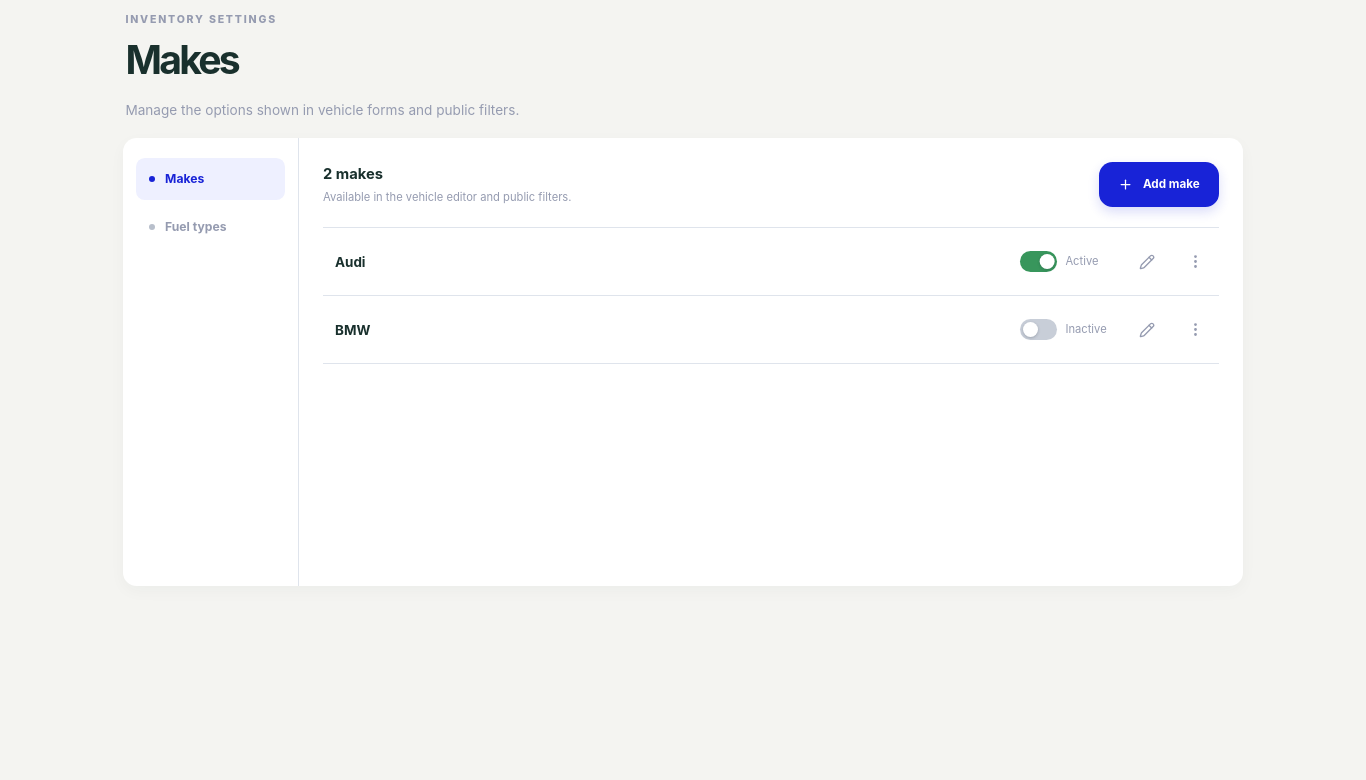
Scenario: AdminInventoryPanel option management › supports saving and cancelling inline name edits
The width and height of the screenshot is (1366, 780).
Expected: the text "Audi" is shown, top-left (335, 254), bottom-right (366, 270)
Click the button named "Edit Audi".
click(1147, 262)  # box top-left (1129, 244), bottom-right (1165, 280)
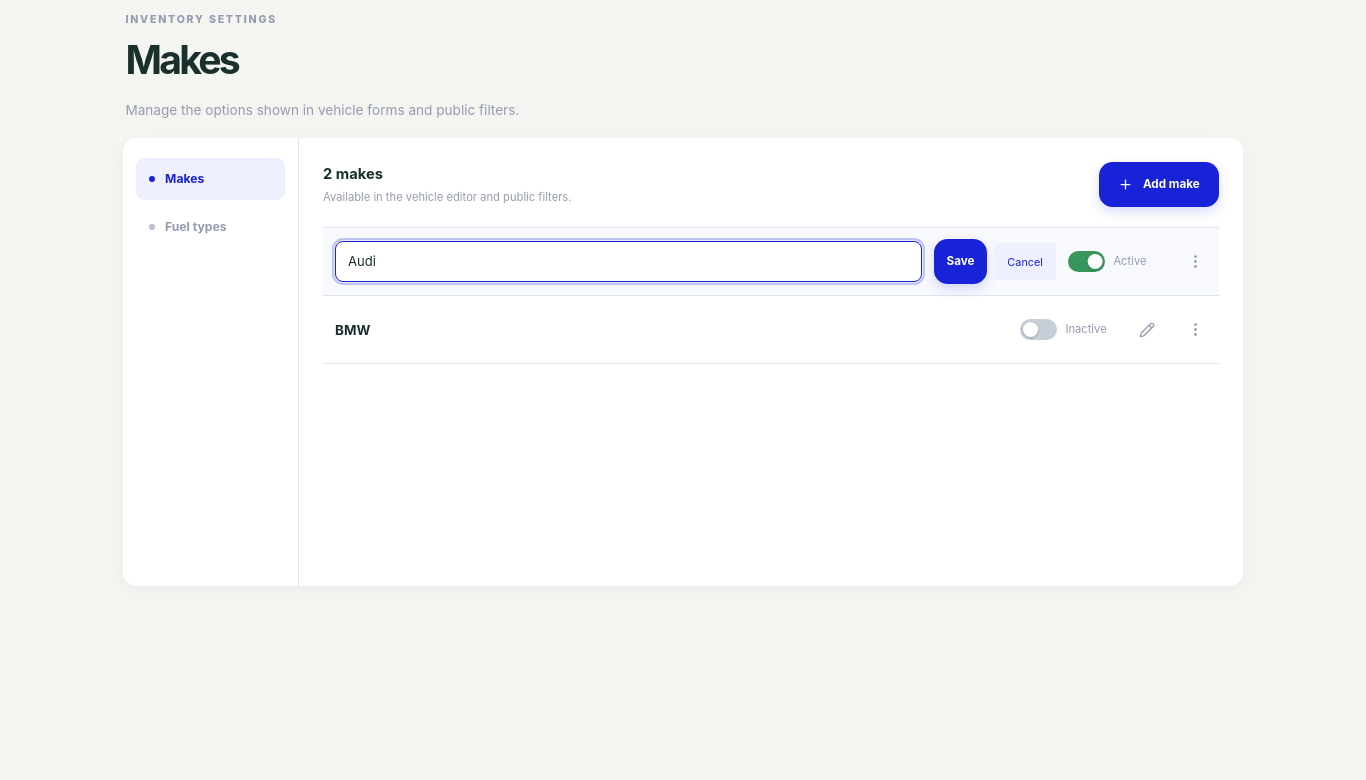
Replace the text in the field named "Edit Audi" with "Audi AG" at point(628, 262), box top-left (335, 241), bottom-right (922, 282)
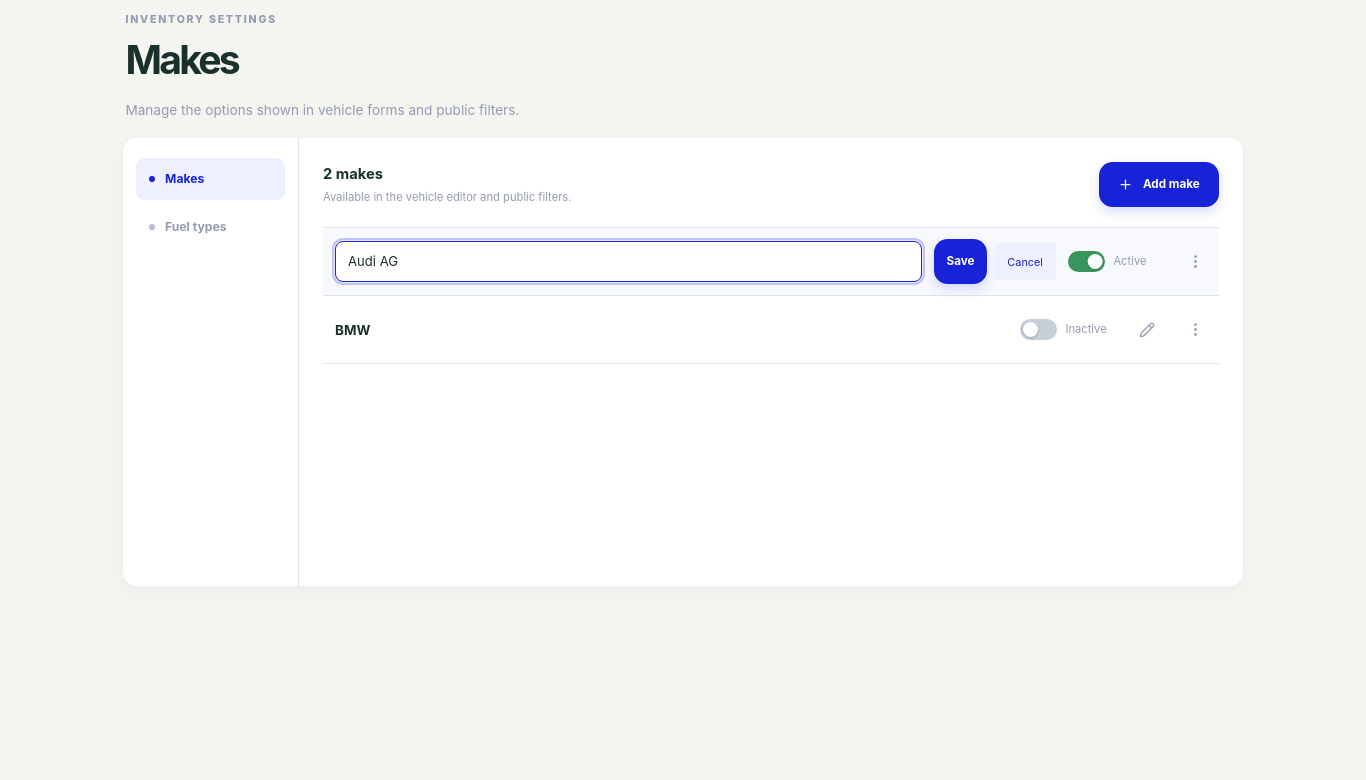
Click the button "Save".
click(961, 262)  # box top-left (934, 239), bottom-right (987, 284)
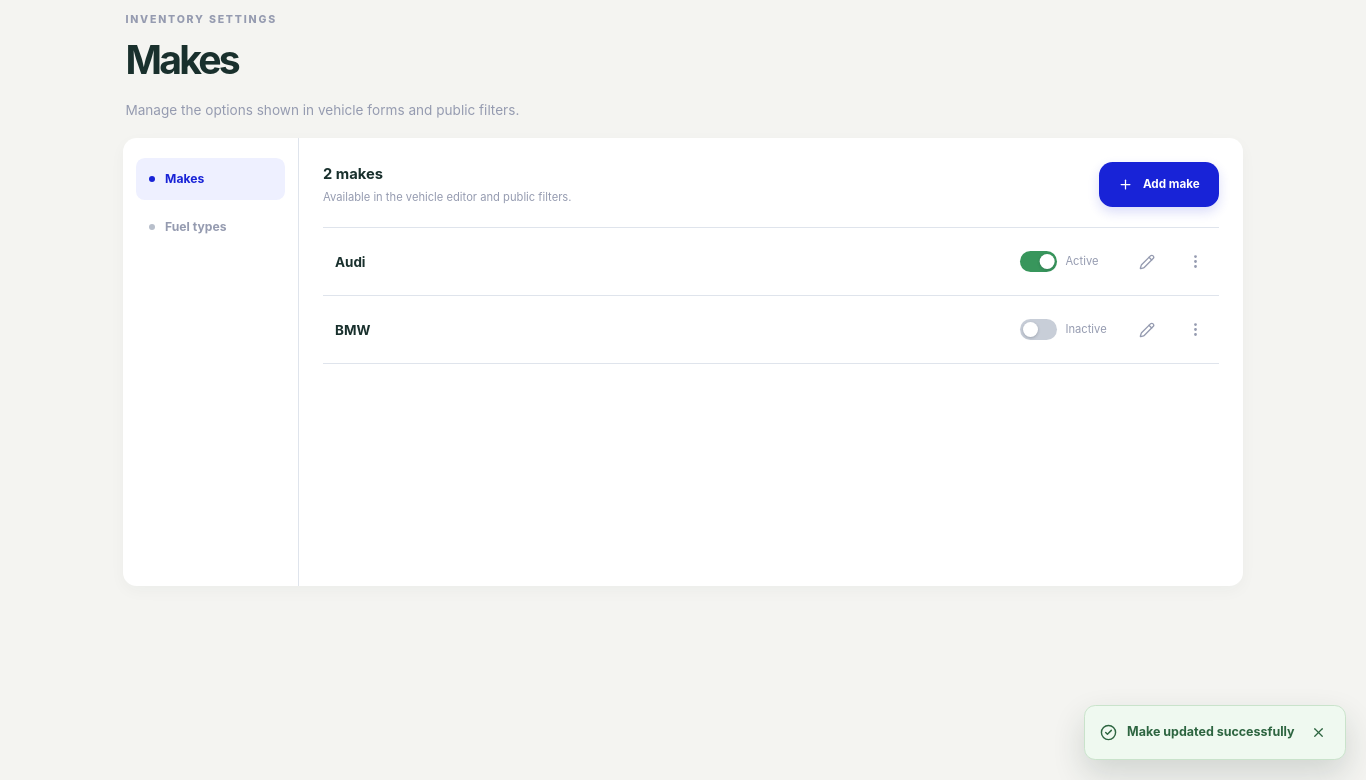
Click the button named "Edit BMW".
click(1147, 330)  # box top-left (1129, 312), bottom-right (1165, 348)
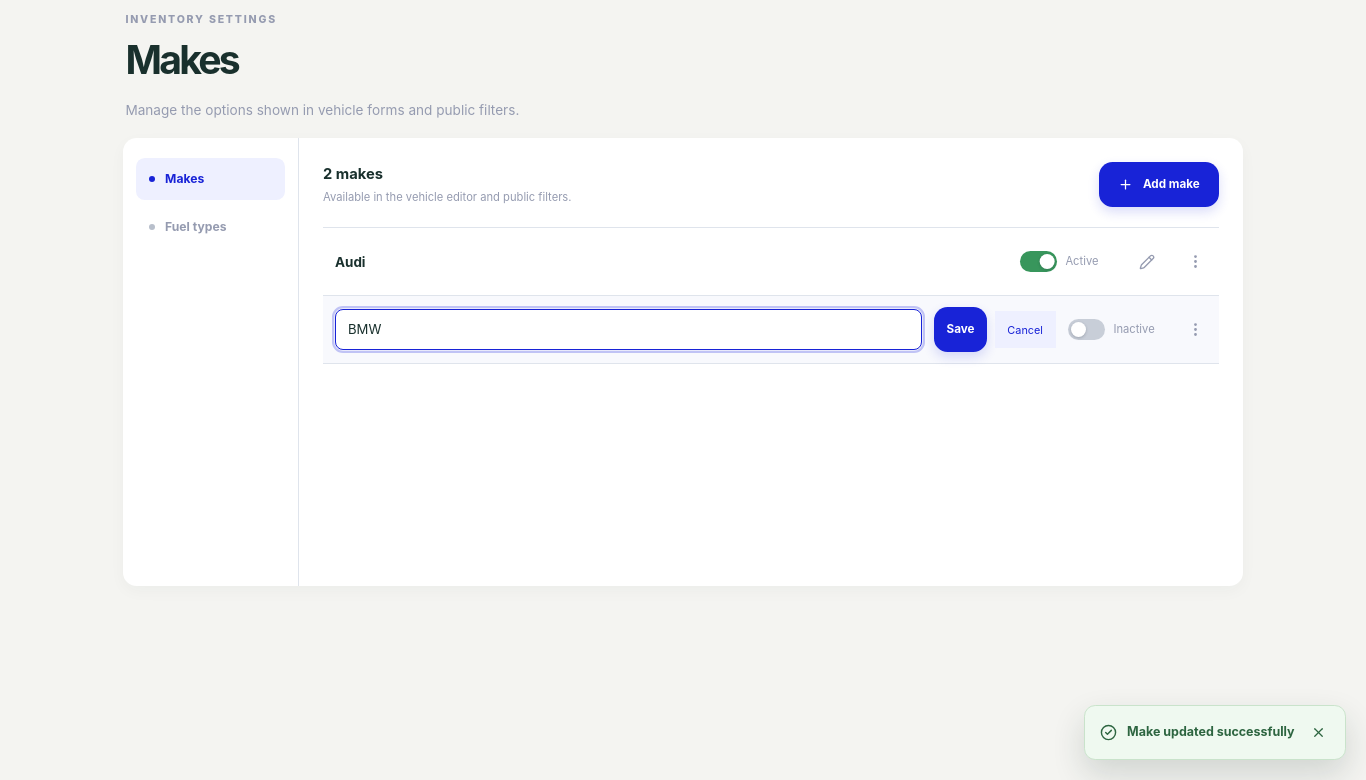
Replace the text in the field named "Edit BMW" with "BMW Group" at point(628, 330), box top-left (335, 309), bottom-right (922, 350)
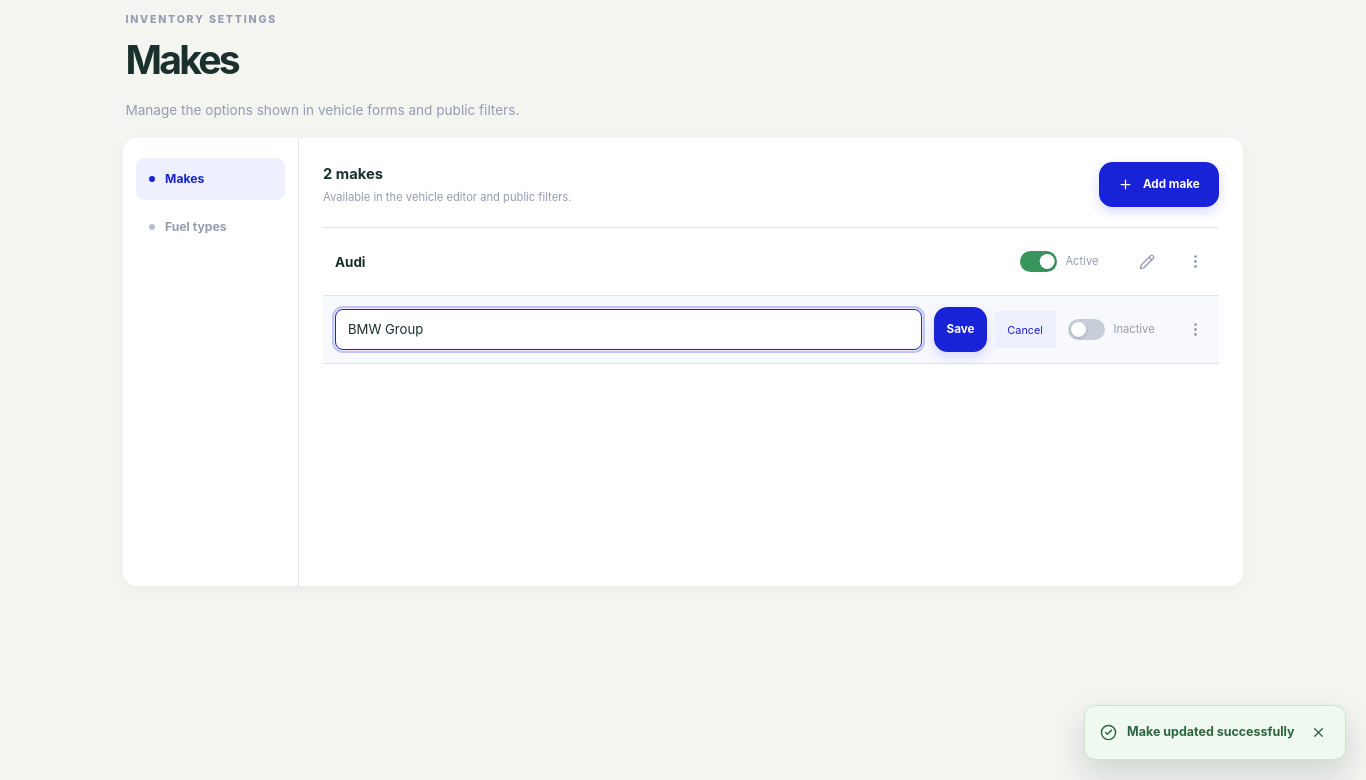
Click the button "Cancel".
click(1025, 330)  # box top-left (994, 311), bottom-right (1056, 348)
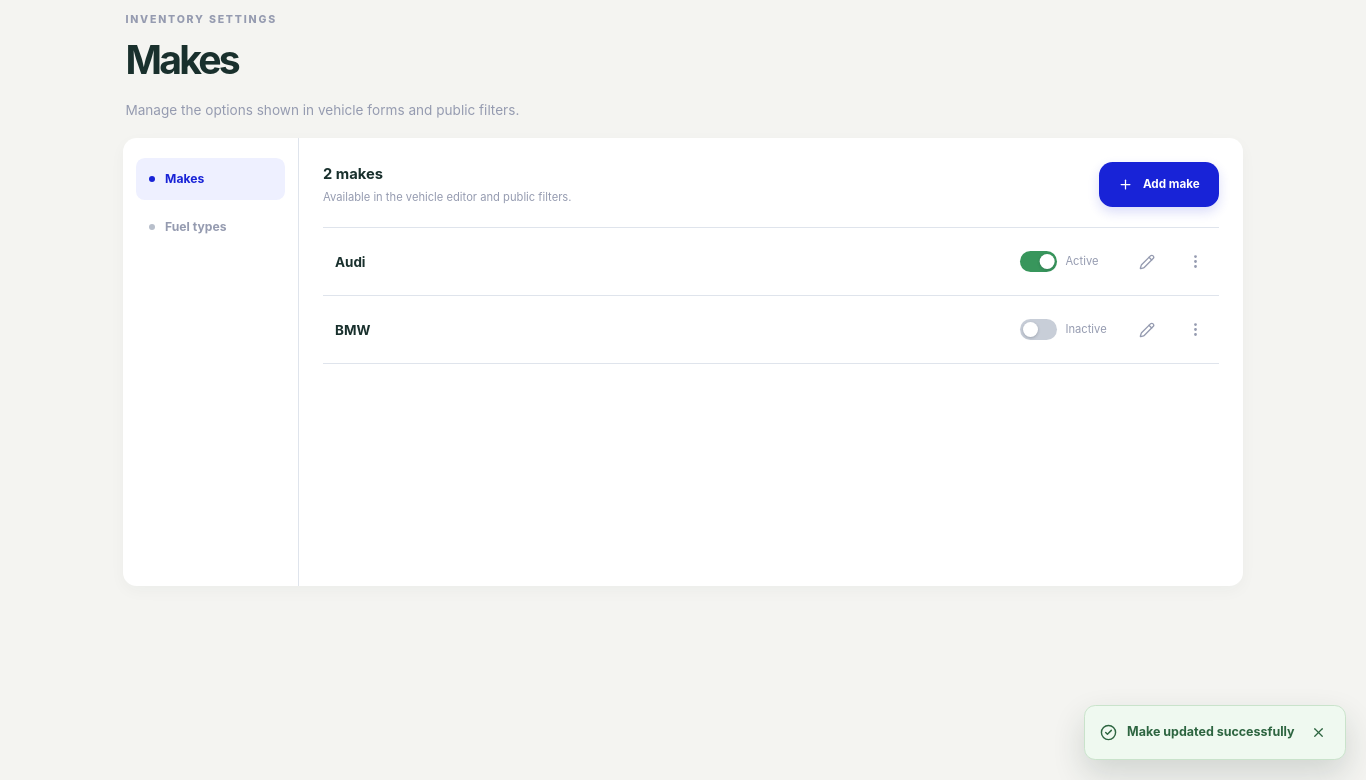
Expected: the text "BMW" is shown, top-left (335, 322), bottom-right (370, 338)
